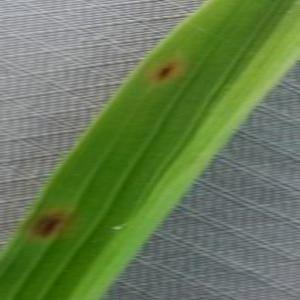0 BrownSpot: (25, 204, 70, 244), (148, 55, 183, 87)
